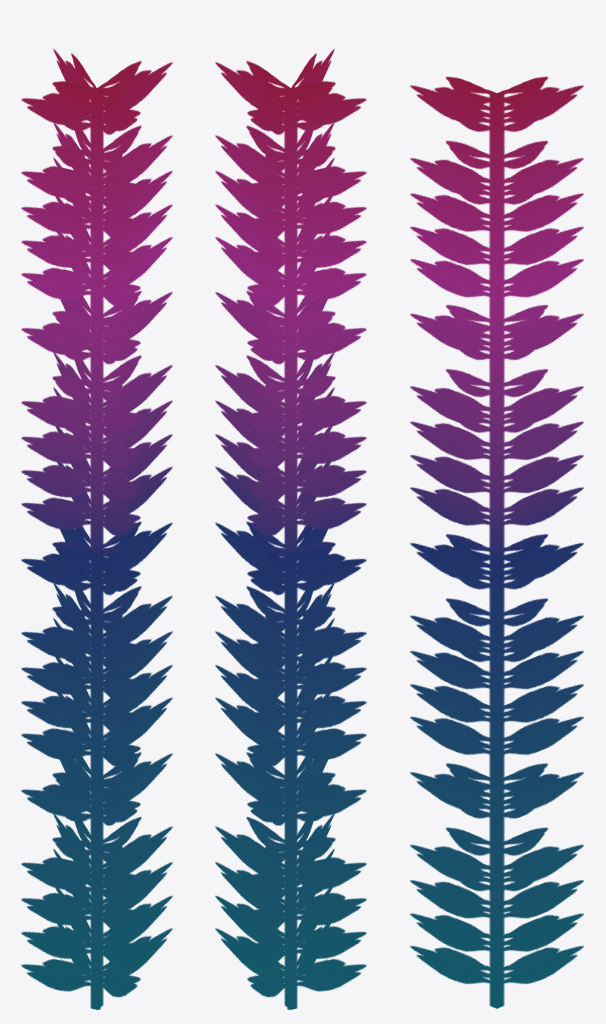
File: haidai_long_s.glb
3 renders of one model, left to right at view 1: azimuth 30°, elevation 25°; view 2: azimuth 150°, elevation 25°; view 3: azimuth 270°, elevation 25°, orthographic.
Parts seen in each view (by area): view 1: pPlane352; view 2: pPlane352; view 3: pPlane352.
Boxes of the visible parts, bbox=[...] form: pPlane352: bbox=[21, 49, 172, 1009]; pPlane352: bbox=[215, 49, 366, 1009]; pPlane352: bbox=[410, 76, 583, 1008].
Size of the model in its own units: 0.0495 by 0.2742 by 0.0495.
Materials: 1 (1 with a texture image).
